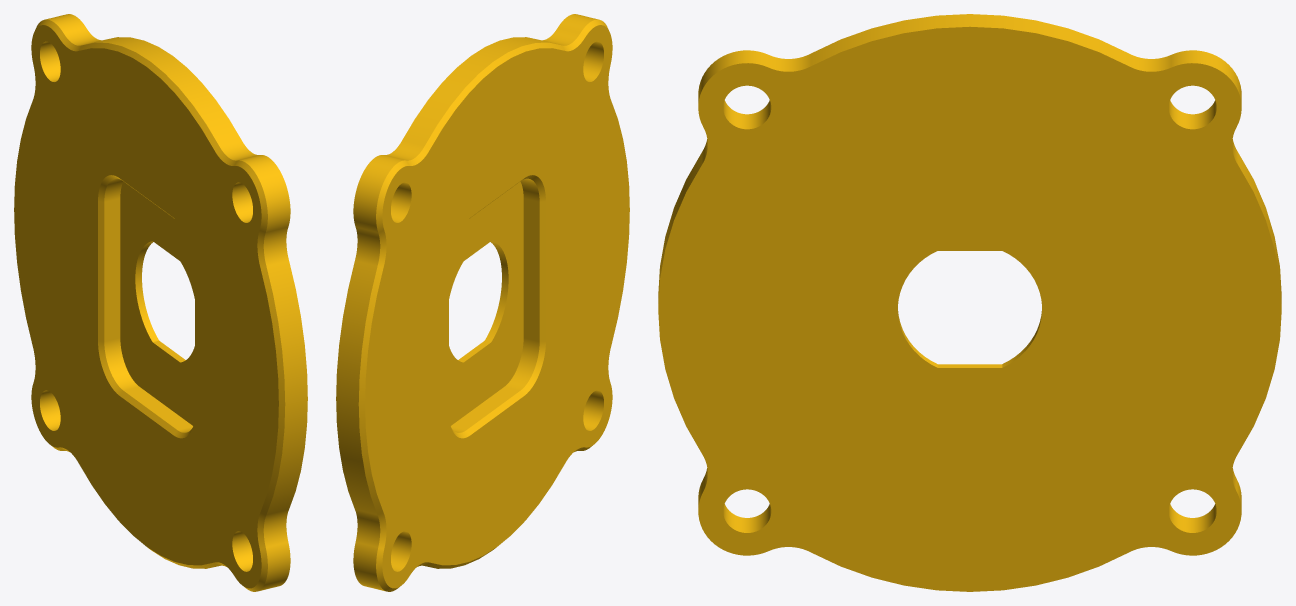
The model's file is bulb_1.gltf.
3 renders of one model, left to right at view 1: azimuth 30°, elevation 25°; view 2: azimuth 150°, elevation 25°; view 3: azimuth 270°, elevation 25°, orthographic. The views are drawn at different scales.
Parts seen in each view (by area): view 1: mesh2677, mesh2690, mesh2643, mesh2641, mesh2684, mesh2642, mesh2669, mesh2676, mesh2644, mesh2683, mesh2682, mesh2680 (+13 smaller); view 2: mesh2677, mesh2690, mesh2647, mesh2641, mesh2691, mesh2648, mesh2656, mesh2676, mesh2646, mesh2694, mesh2693, mesh2680 (+13 smaller); view 3: mesh2637, mesh2641, mesh2642, mesh2648.
Part boxes in pixels (x1,y1,x2,y2): mesh2677: (14, 25, 278, 588); mesh2690: (120, 181, 194, 425); mesh2643: (266, 261, 307, 514); mesh2641: (87, 37, 241, 145); mesh2684: (104, 198, 120, 341); mesh2642: (239, 155, 290, 232); mesh2669: (260, 266, 285, 514); mesh2676: (79, 42, 218, 148); mesh2644: (258, 542, 290, 591); mesh2683: (98, 201, 104, 341); mesh2682: (104, 338, 139, 390); mesh2680: (124, 387, 192, 429); mesh2677: (365, 25, 629, 588); mesh2690: (449, 181, 523, 425); mesh2647: (336, 261, 377, 514); mesh2641: (402, 37, 556, 145); mesh2691: (523, 198, 539, 341); mesh2648: (353, 155, 404, 232); mesh2656: (358, 266, 383, 514); mesh2676: (425, 42, 564, 148); mesh2646: (353, 542, 385, 591); mesh2694: (539, 201, 545, 341); mesh2693: (504, 338, 539, 390); mesh2680: (451, 387, 519, 429); mesh2637: (658, 26, 1281, 591); mesh2641: (811, 14, 1128, 65); mesh2642: (698, 50, 768, 102); mesh2648: (1171, 50, 1241, 102).
Size of the model in its own units: 0.002 by 0.035 by 0.035.
